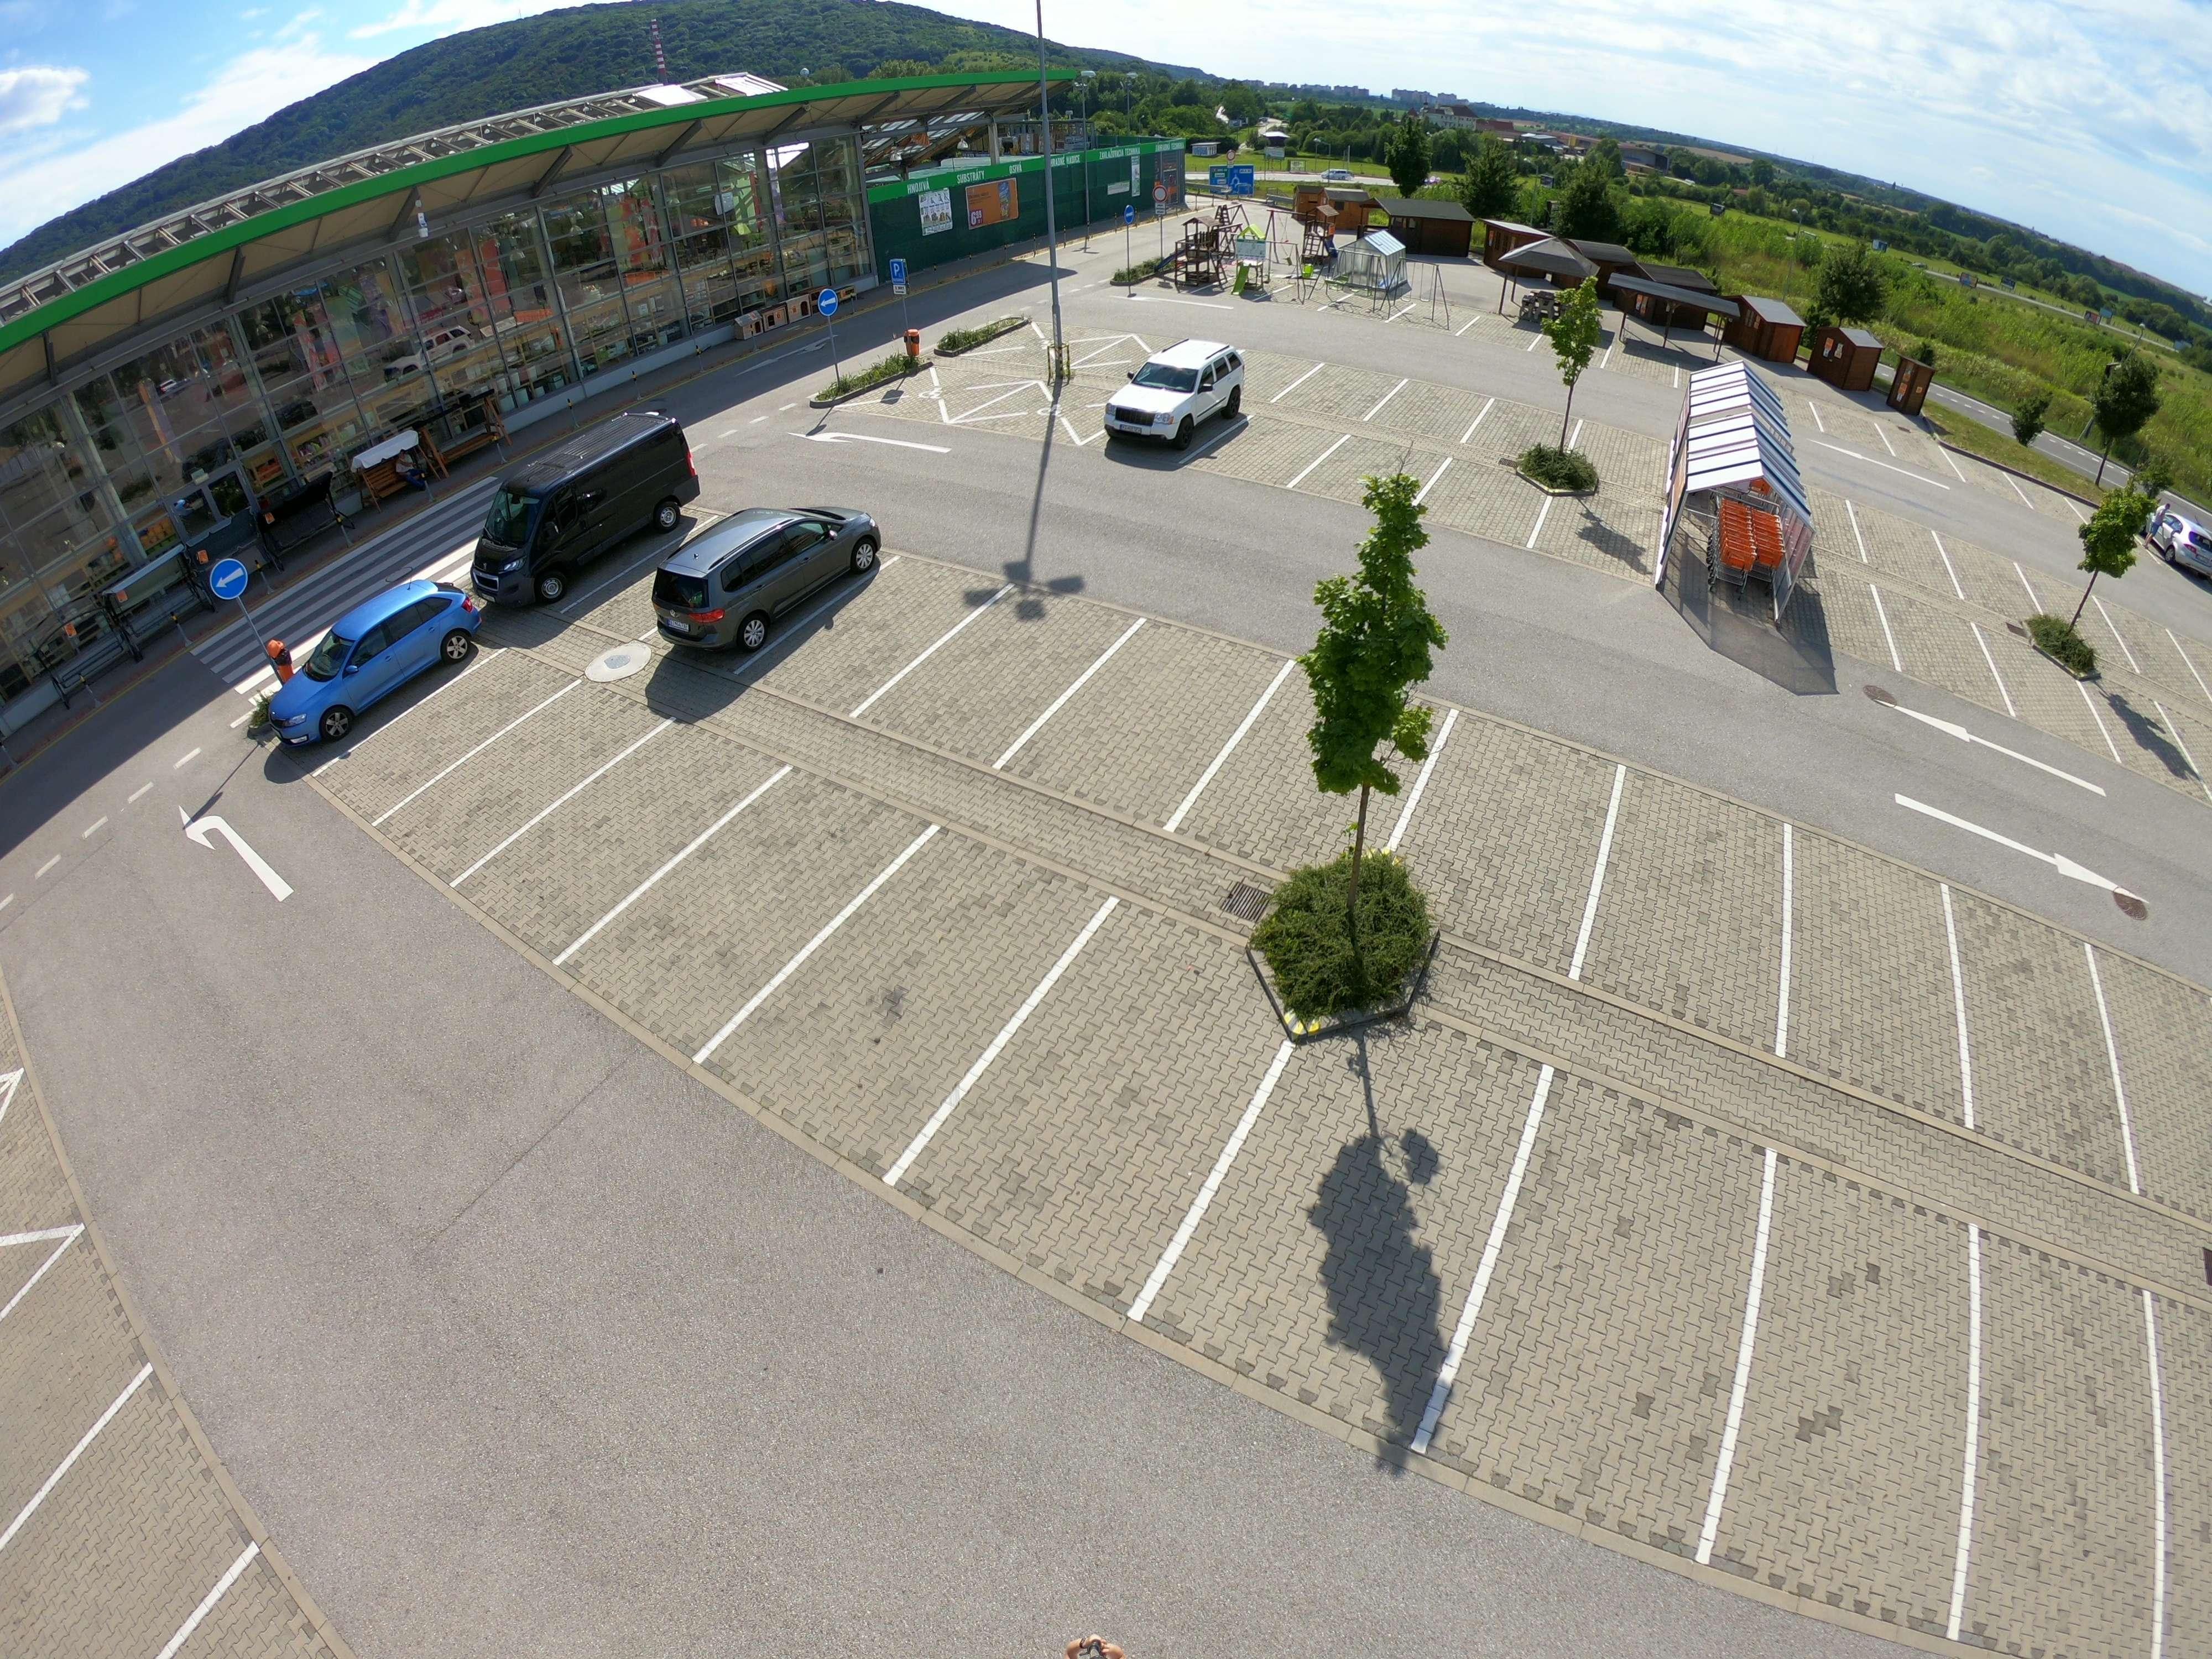empty: (644, 502, 890, 662), (268, 591, 474, 746), (1092, 335, 1261, 462)
occupied: (1505, 1185, 1738, 1438), (1761, 1256, 1958, 1539), (1977, 1312, 2146, 1617), (1226, 1089, 1442, 1317), (1012, 1016, 1219, 1183), (820, 917, 1010, 1051), (1966, 962, 2104, 1126), (1799, 906, 1951, 1040), (1611, 852, 1770, 978), (9, 1539, 167, 1659), (1439, 777, 1594, 896), (676, 850, 826, 957), (1228, 728, 1357, 835), (2123, 1039, 2212, 1178), (1076, 676, 1217, 762), (1780, 551, 1874, 652), (1892, 608, 1987, 694), (937, 641, 1054, 711), (564, 791, 672, 866), (1555, 498, 1656, 573), (1432, 469, 1529, 532), (2015, 673, 2085, 755), (2107, 706, 2174, 791), (406, 697, 491, 762), (2121, 622, 2188, 702), (484, 749, 568, 809), (1242, 420, 1324, 479), (1325, 455, 1418, 507), (826, 613, 913, 667), (1878, 533, 1944, 592), (1399, 392, 1470, 439), (1963, 565, 2019, 622), (1491, 406, 1555, 451), (1303, 380, 1374, 420), (1592, 437, 1651, 484), (2052, 592, 2099, 650)
